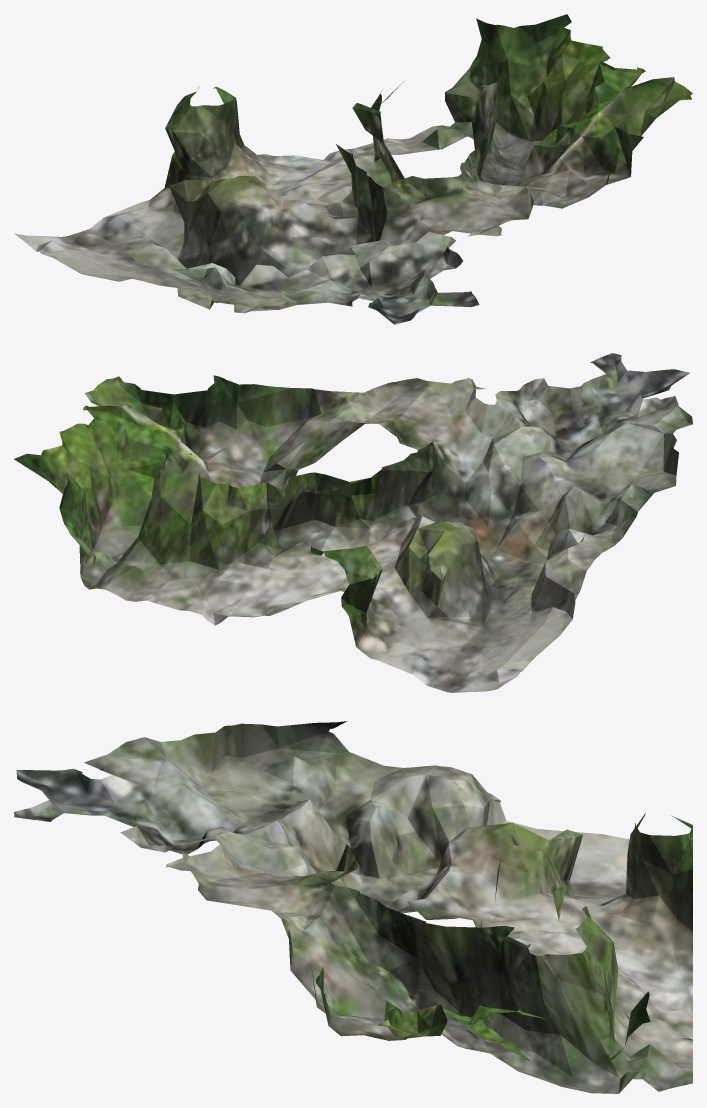
3 views of the same model, one above another, from view 1: azimuth 30°, elevation 25°; view 2: azimuth 150°, elevation 25°; view 3: azimuth 270°, elevation 25° (orthographic). The views are drawn at different scales.
Size of the model in its own units: 24.53 by 5.03 by 22.74.
Materials: 2 (2 with a texture image).
